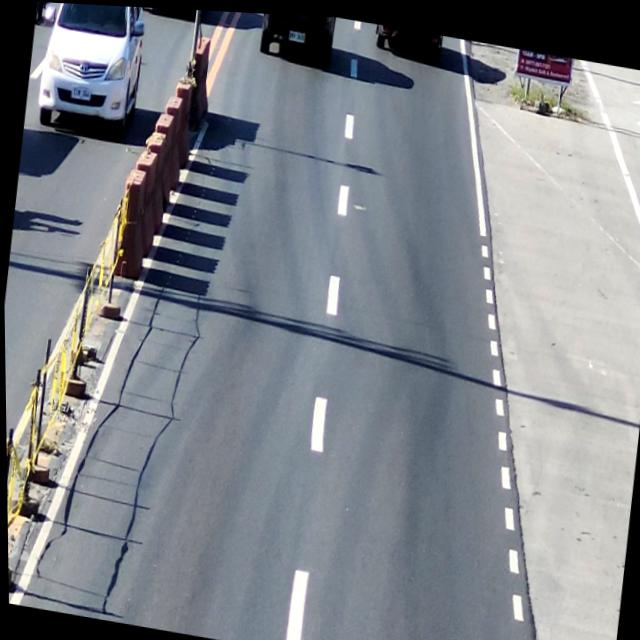Car: (37, 2, 153, 139), (254, 10, 340, 64)
License-Plate: (66, 80, 93, 102), (286, 23, 308, 42)
